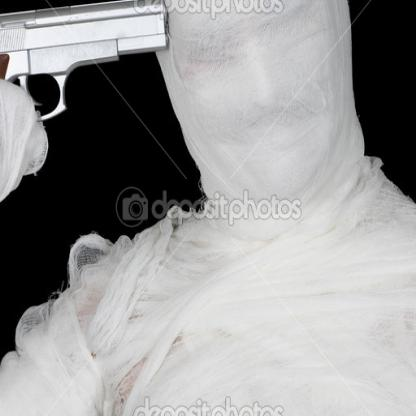gun: (0, 0, 179, 226)
